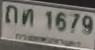letters: (6, 5, 18, 24), (21, 8, 33, 27)
province: (16, 33, 80, 47)
